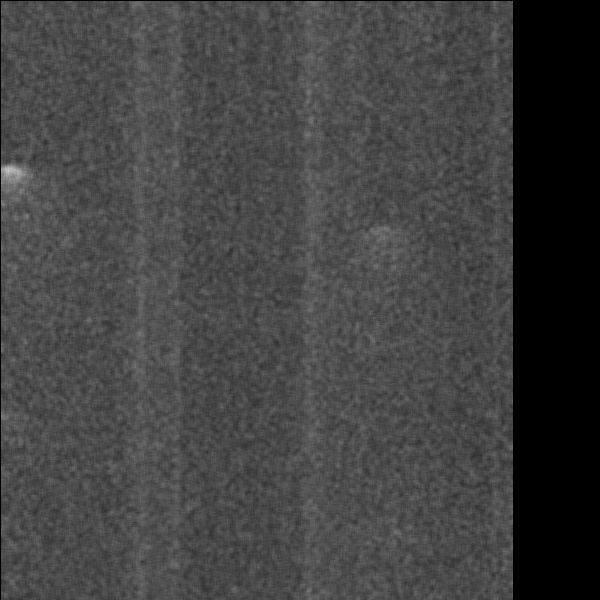spark: (429, 328, 471, 384), (268, 333, 281, 355)
